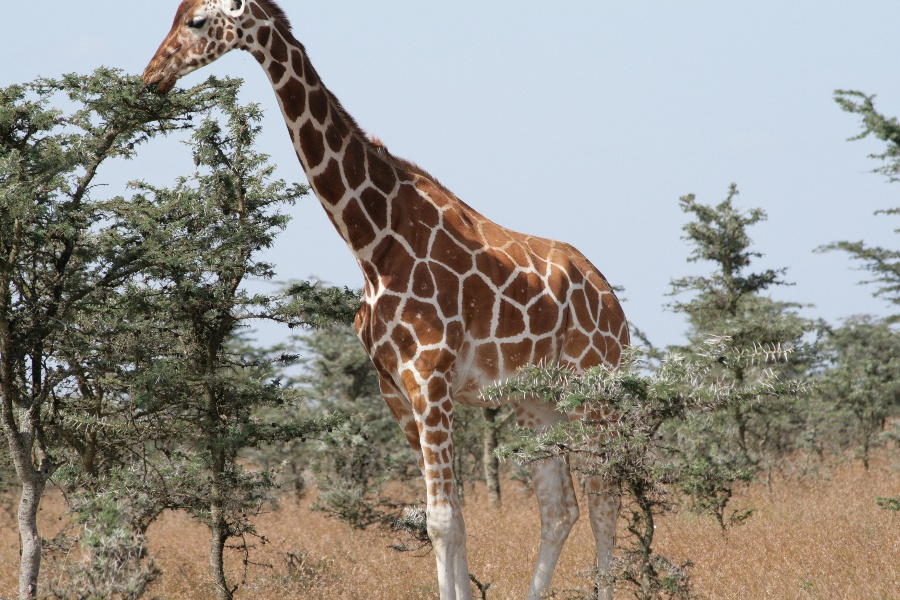giraffe: (137, 0, 636, 594)
